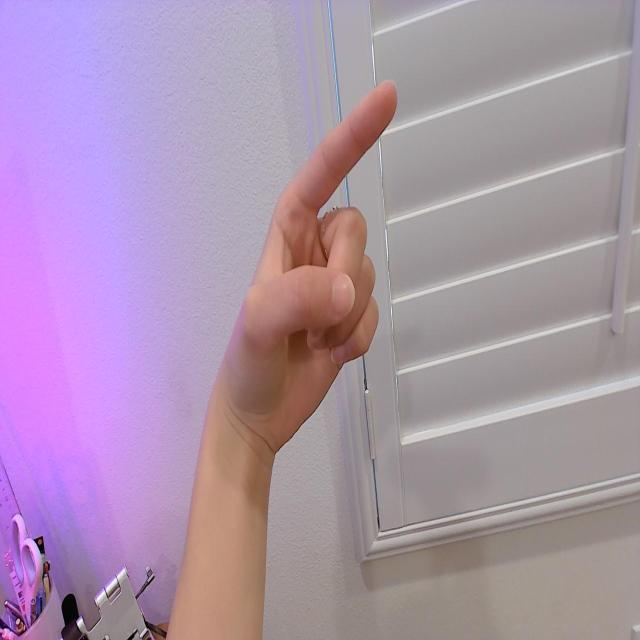Z: (219, 77, 400, 455)
